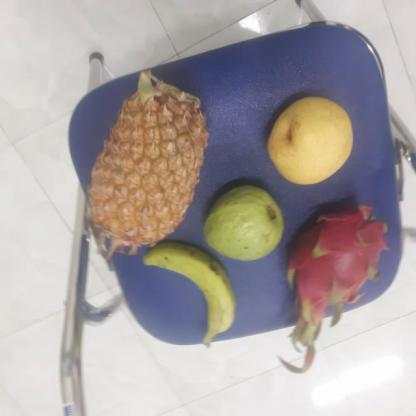guava: (200, 181, 284, 263)
pear: (262, 97, 356, 186)
pineapple: (78, 74, 204, 254)
pitaya: (284, 200, 384, 324)
